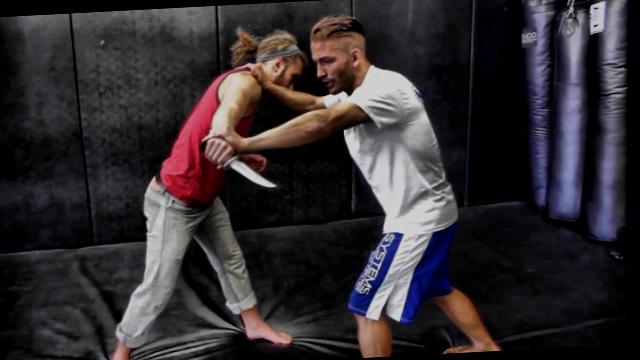knife: (195, 134, 286, 196)
